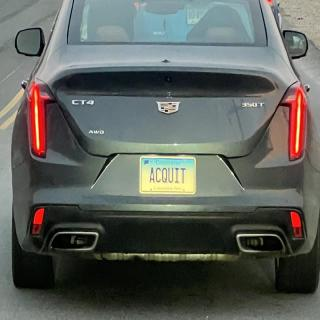license: (140, 158, 197, 195)
